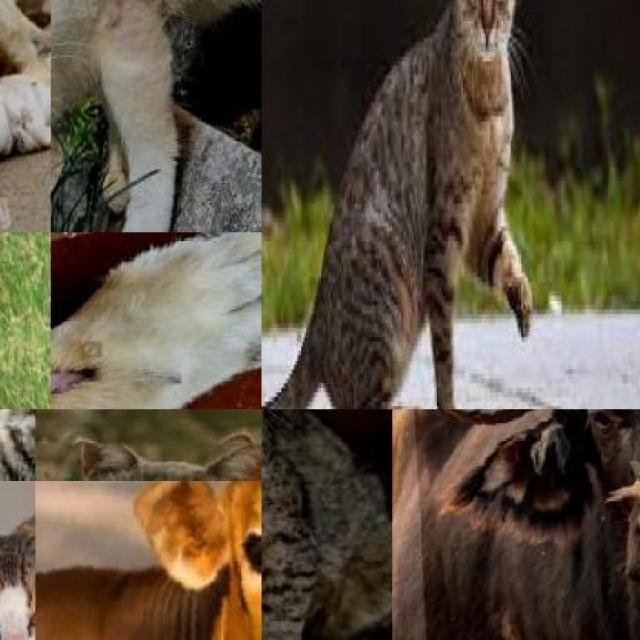buffalo: (403, 409, 640, 640)
cat: (340, 0, 546, 409), (50, 0, 261, 232), (262, 409, 392, 640)
cow: (35, 480, 262, 640)
dog: (50, 232, 262, 410)
injured: (51, 337, 152, 409)
